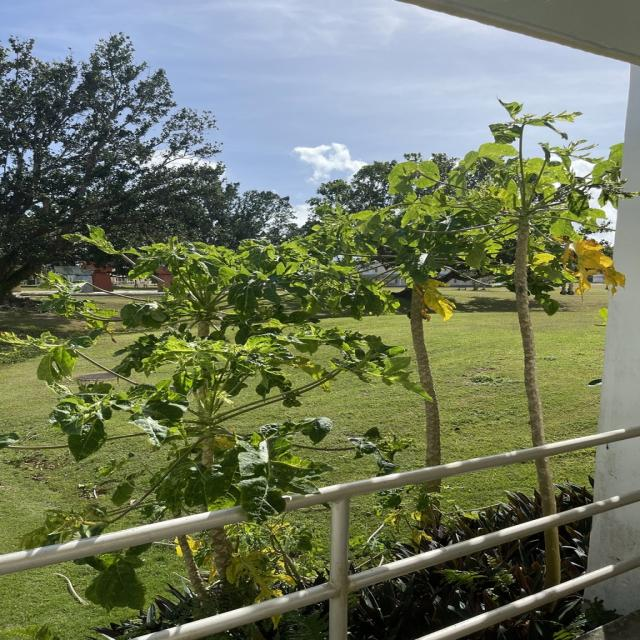Papaya-Tree: (120, 255, 323, 502), (483, 146, 602, 438), (389, 208, 481, 457)
